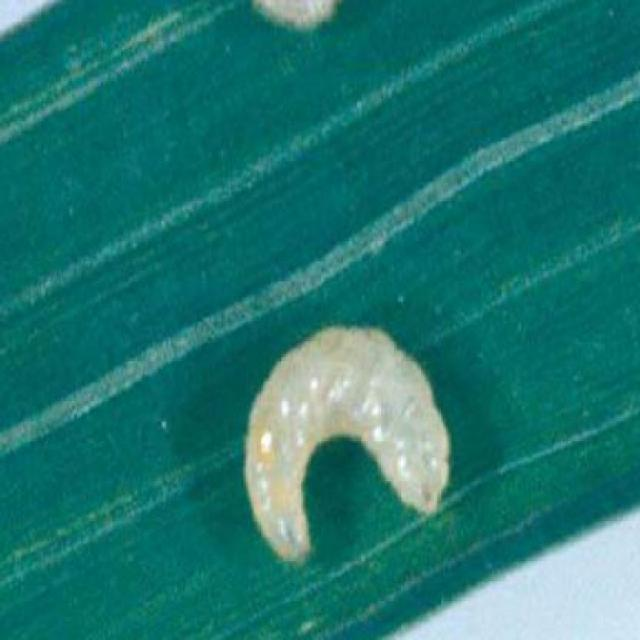whorl-maggot: (228, 308, 466, 575)
